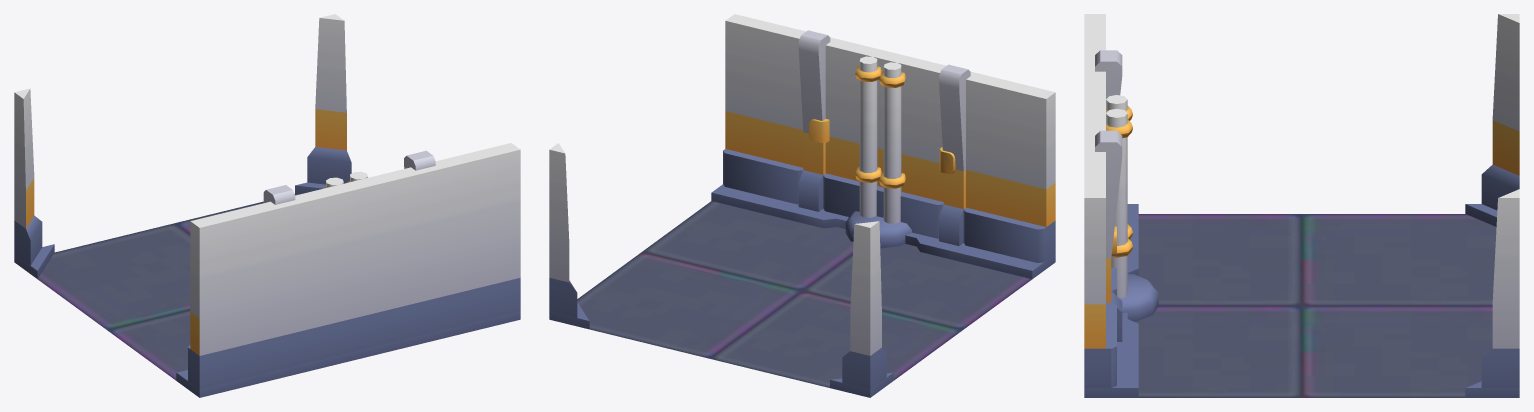
Rendered from corridor-wide-junction.glb.
The picture shows the model from 3 angles, left to right: view 1: azimuth 30°, elevation 25°; view 2: azimuth 150°, elevation 25°; view 3: azimuth 270°, elevation 25°; orthographic projection. The views are drawn at different scales.
Visible parts, largest first — view 1: corridor-wide-junction; view 2: corridor-wide-junction; view 3: corridor-wide-junction.
Part boxes in pixels (x1,y1,x2,y2): corridor-wide-junction: [14, 14, 520, 397]; corridor-wide-junction: [549, 14, 1055, 397]; corridor-wide-junction: [1084, 14, 1519, 397].
Size of the model in its own units: 8 by 4.25 by 8.
Materials: 1 (1 with a texture image).
